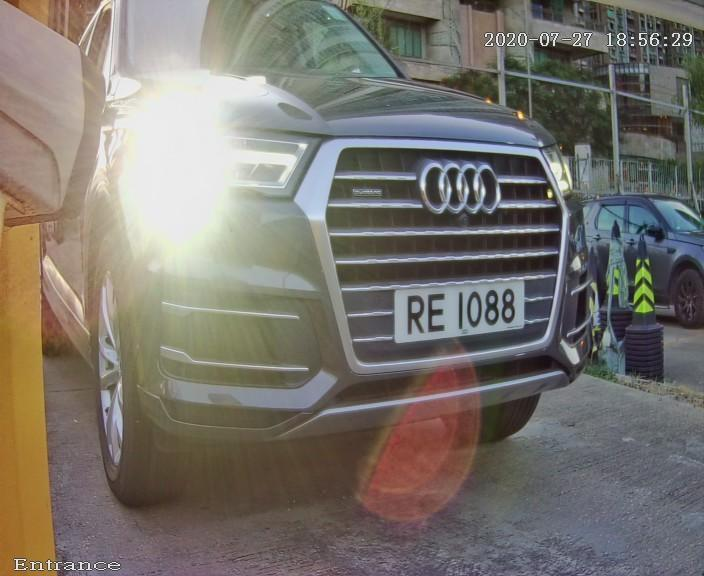privatecar: (30, 1, 601, 510)
